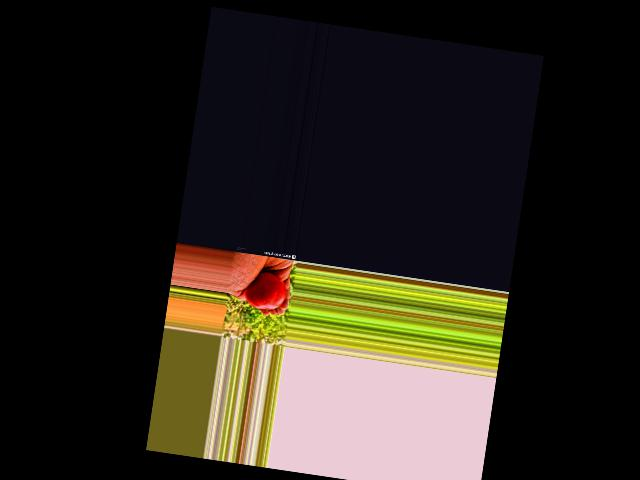tomato: (242, 269, 288, 311)
